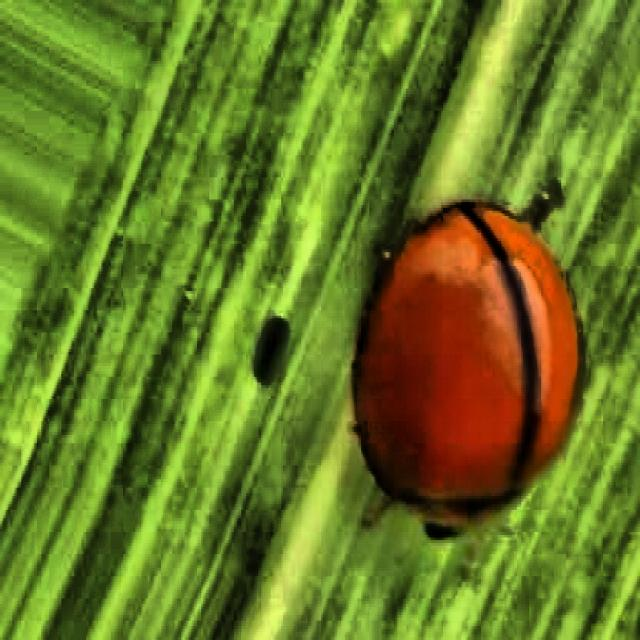Ladybug: (278, 114, 632, 626)
